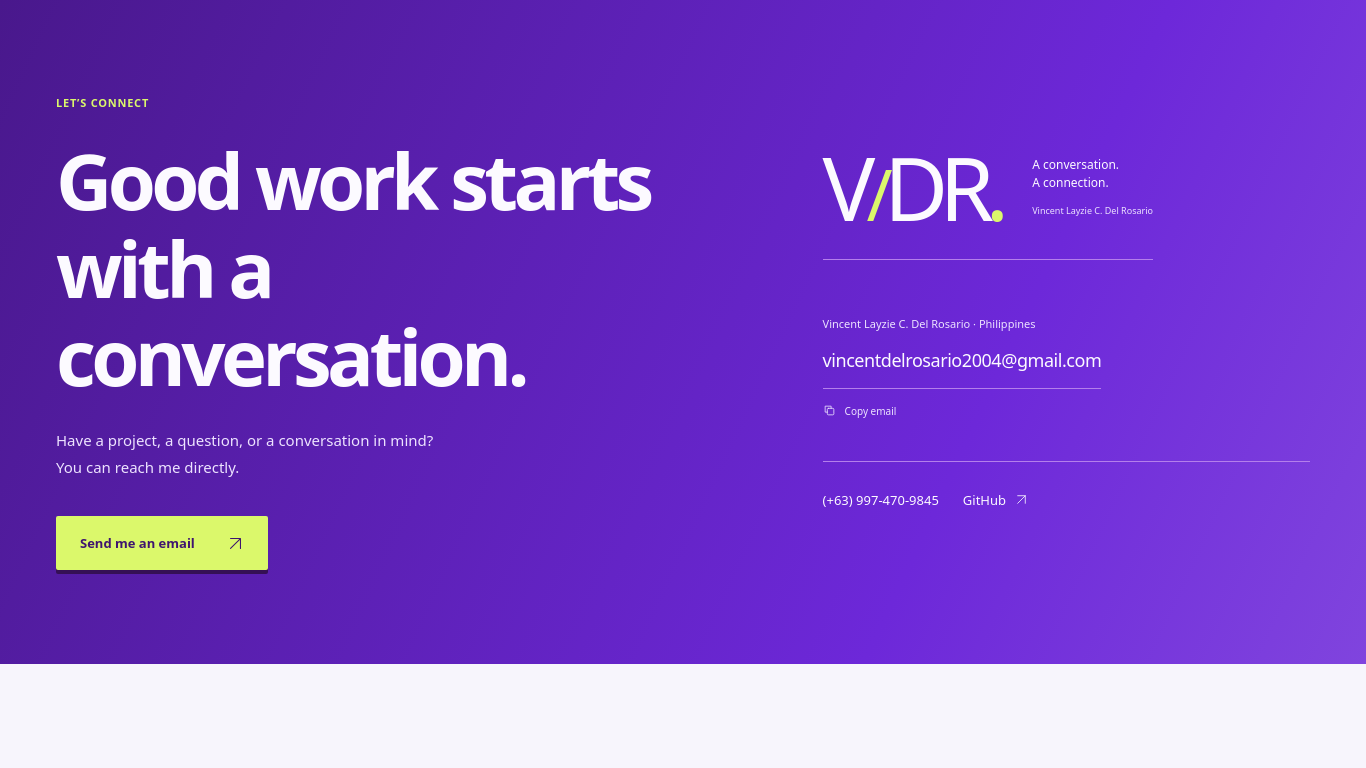
Test: Direct contact › offers an honest alternative after clipboard failure
Step 1. Click the button "Copy email" → coordinates (860, 411), box [823,389,896,433]
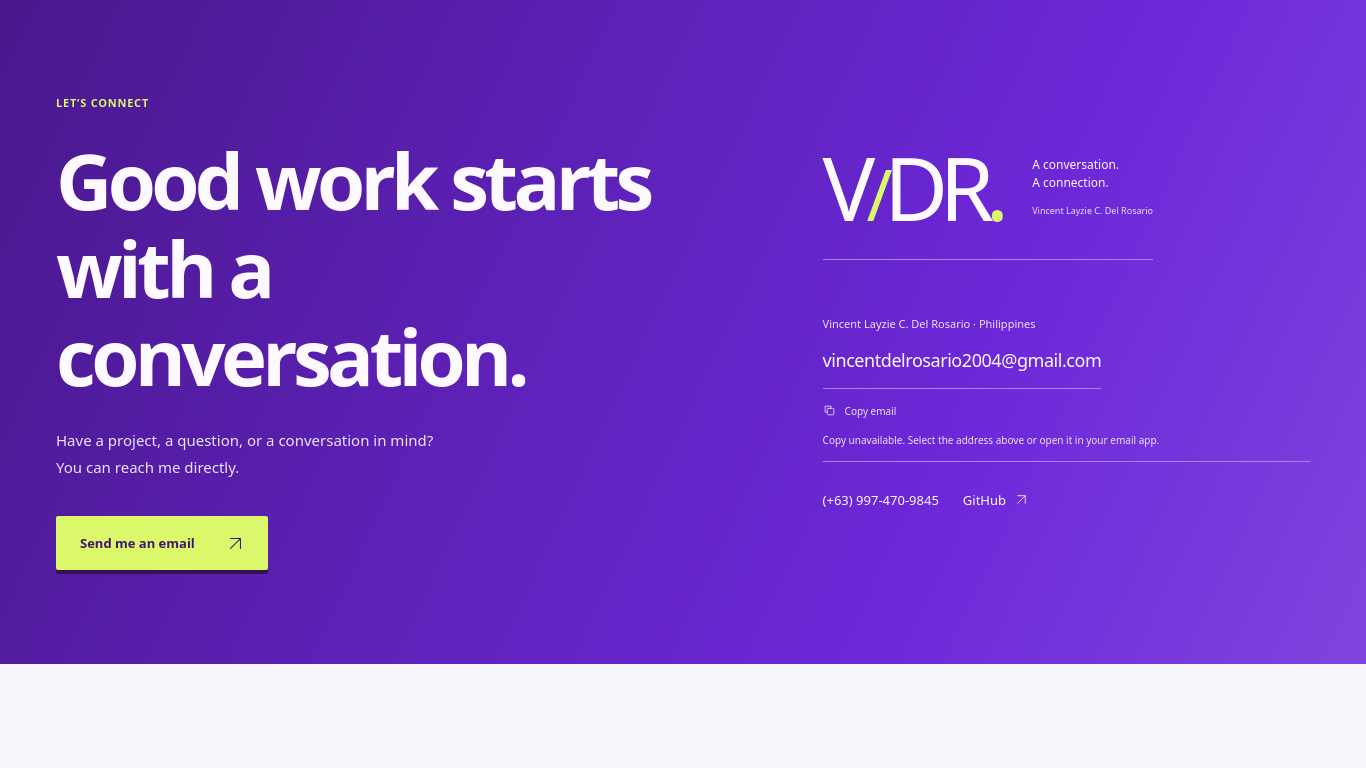
Expected: the message shows "Copy unavailable", [823,433,1159,447]
